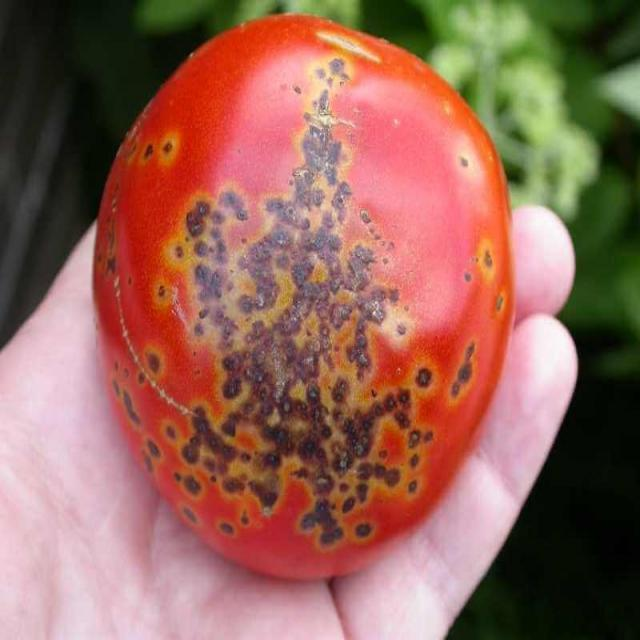Bacterial Spot: (154, 105, 436, 546)
